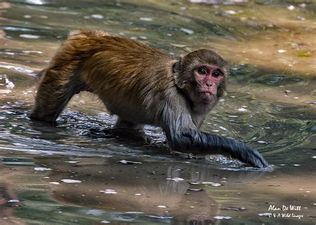monkey: (87, 19, 259, 200)
